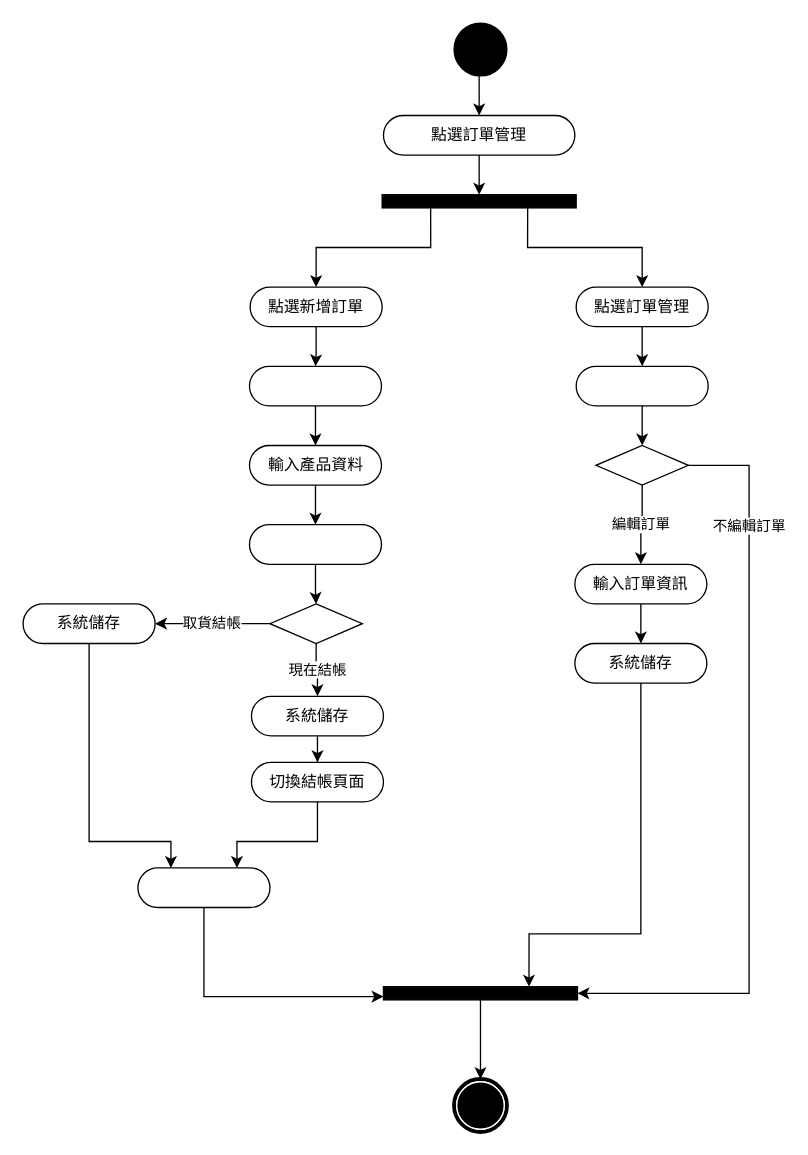
Some shapes in this 808 by 1155 pixel diagram are drawn without their labels. Here are the shapes that lost their labels. From the top down, the box of each, then its label:
(248, 365, 381, 406): 輸入會員資料
(575, 365, 708, 406): 檢視訂單
(248, 523, 381, 564): 輸入取貨資訊
(137, 867, 270, 908): 列印訂單
